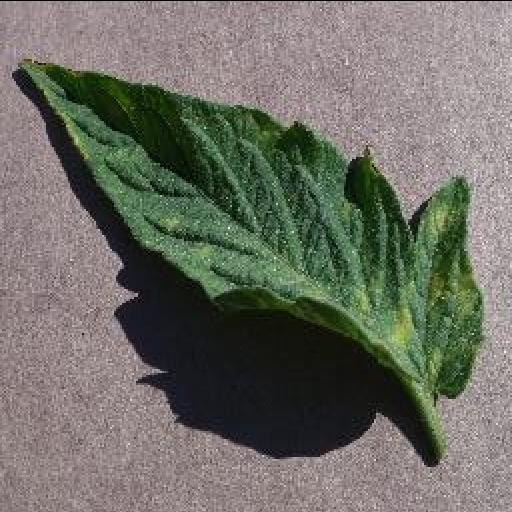disease_tomato: (18, 58, 484, 396)
